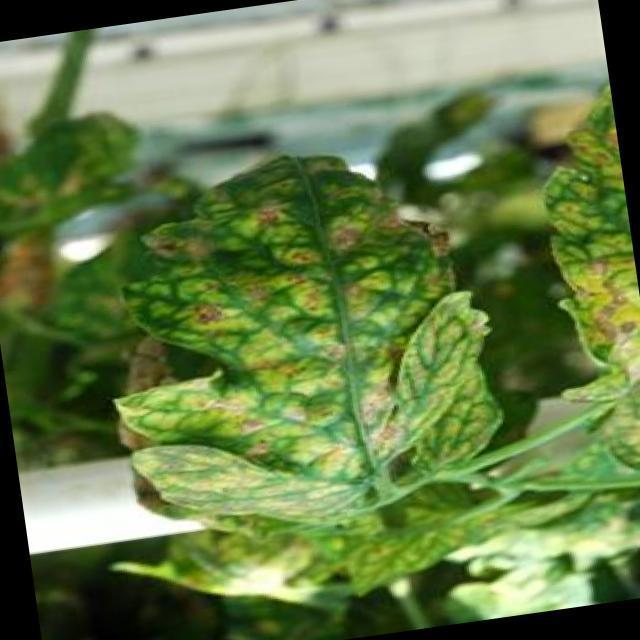Mosaic Virus: (110, 122, 512, 547)
